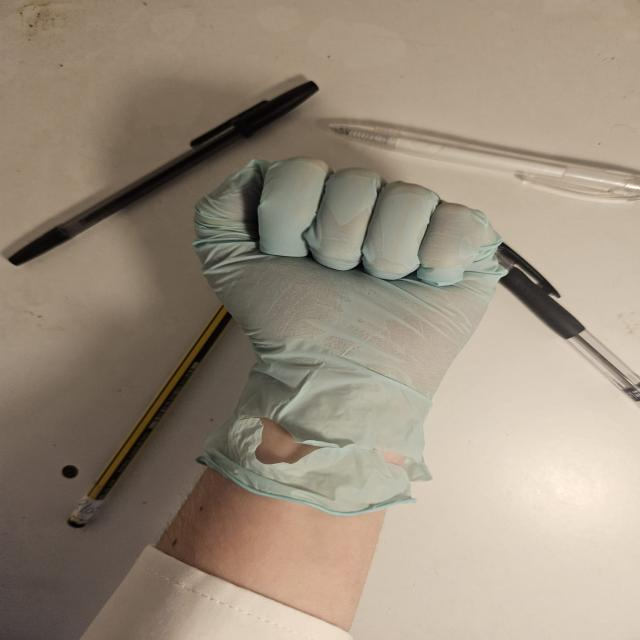gloves_damaged: (190, 152, 508, 516)
